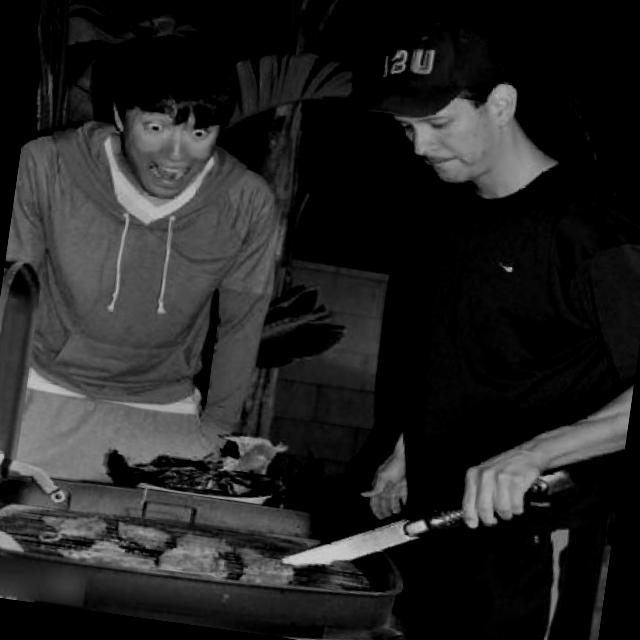Person: (301, 19, 640, 640), (0, 2, 290, 535)
